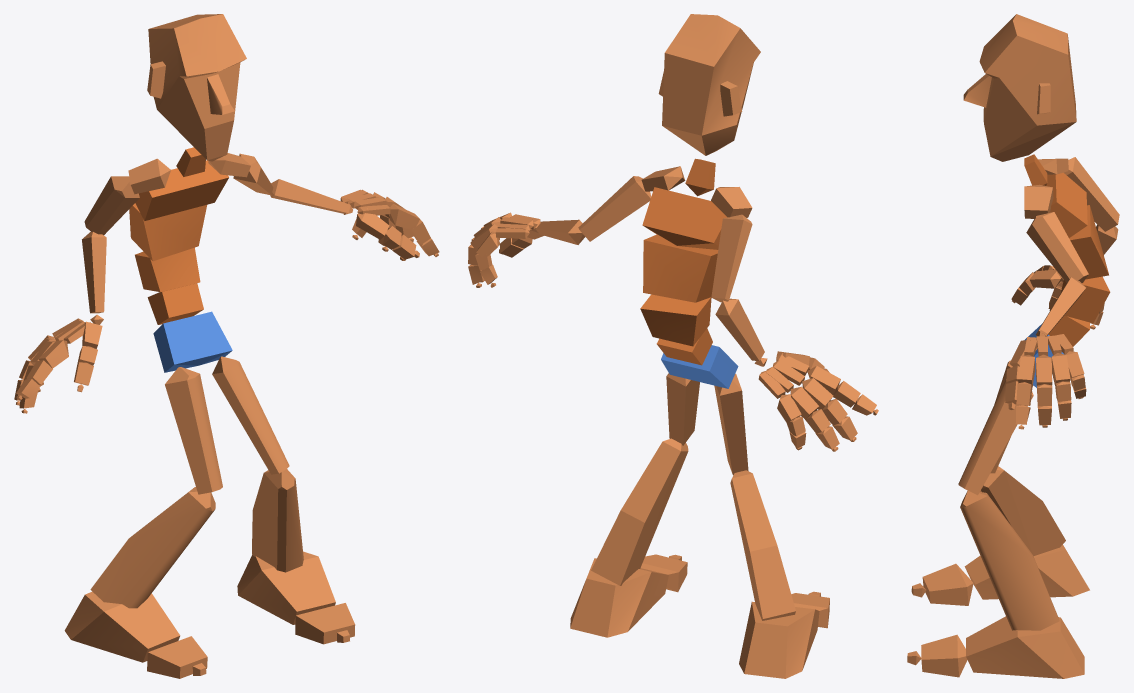
File: prueba131.obj
3 renders of one model, left to right at view 1: azimuth 30°, elevation 25°; view 2: azimuth 150°, elevation 25°; view 3: azimuth 270°, elevation 25°, orthographic. The views are drawn at different scales.
Parts seen in each view (by area): view 1: BOPED_Head, BOPED_R_leg, BOPED_R_foot, BOPED_R_foot01, BOPED_L_leg, BOPED_R_legup, Bone01, BOPED_L_legup, Bone04, Bone05, Bone03, BOPED_R_arm_upper (+9 smaller); view 2: BOPED_Head, BOPED_L_leg, BOPED_R_leg, BOPED_R_foot01, BOPED_R_foot, Bone04, Bone05, Bone03, BOPED_R_arm_upper, BOPED_R_legup, BOPED_L_arm_upper, BOPED_L_legup (+9 smaller); view 3: BOPED_Head, BOPED_L_leg, BOPED_R_foot01, BOPED_R_leg, BOPED_L_legup, BOPED_R_foot, BOPED_L_arm_upper, Bone05, BOPED_R_foot_toe01, BOPED_R_foot_toe04, BOPED_R_arm_upper, Bone04 (+14 smaller).
Part boxes in pixels (<box>): BOPED_Head: <box>147,14,246,161</box>; BOPED_R_leg: <box>90,487,215,608</box>; BOPED_R_foot: <box>64,591,180,662</box>; BOPED_R_foot01: <box>237,551,335,624</box>; BOPED_L_leg: <box>252,469,303,572</box>; BOPED_R_legup: <box>165,367,222,494</box>; Bone01: <box>153,311,232,372</box>; BOPED_L_legup: <box>212,356,289,474</box>; Bone04: <box>129,203,206,261</box>; Bone05: <box>135,160,228,220</box>; Bone03: <box>135,247,200,292</box>; BOPED_R_arm_upper: <box>84,176,139,235</box>; BOPED_Head: <box>658,14,760,155</box>; BOPED_L_leg: <box>591,438,688,585</box>; BOPED_R_leg: <box>730,470,795,620</box>; BOPED_R_foot01: <box>570,558,668,637</box>; BOPED_R_foot: <box>739,601,819,678</box>; Bone04: <box>643,234,718,302</box>; Bone05: <box>642,187,727,249</box>; Bone03: <box>640,294,711,346</box>; BOPED_R_arm_upper: <box>711,214,752,302</box>; BOPED_R_legup: <box>714,374,748,475</box>; BOPED_L_arm_upper: <box>578,176,651,241</box>; BOPED_L_legup: <box>666,373,699,445</box>; BOPED_Head: <box>963,14,1076,161</box>; BOPED_L_leg: <box>960,490,1059,630</box>; BOPED_R_foot01: <box>966,616,1084,678</box>; BOPED_R_leg: <box>980,466,1065,556</box>; BOPED_L_legup: <box>958,379,1033,495</box>; BOPED_R_foot: <box>964,544,1089,599</box>; BOPED_L_arm_upper: <box>1026,212,1088,282</box>; Bone05: <box>1046,172,1087,237</box>; BOPED_R_foot_toe01: <box>922,563,973,605</box>; BOPED_R_foot_toe04: <box>921,634,967,677</box>; BOPED_R_arm_upper: <box>1064,157,1119,231</box>; Bone04: <box>1069,205,1108,279</box>.
Bounding box in the file's own units: 130 × 184 × 59.08.
